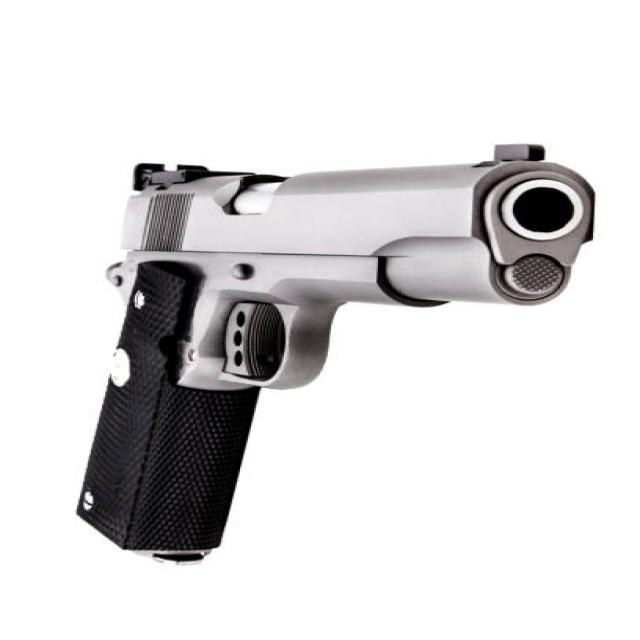pistol: (59, 131, 613, 571)
